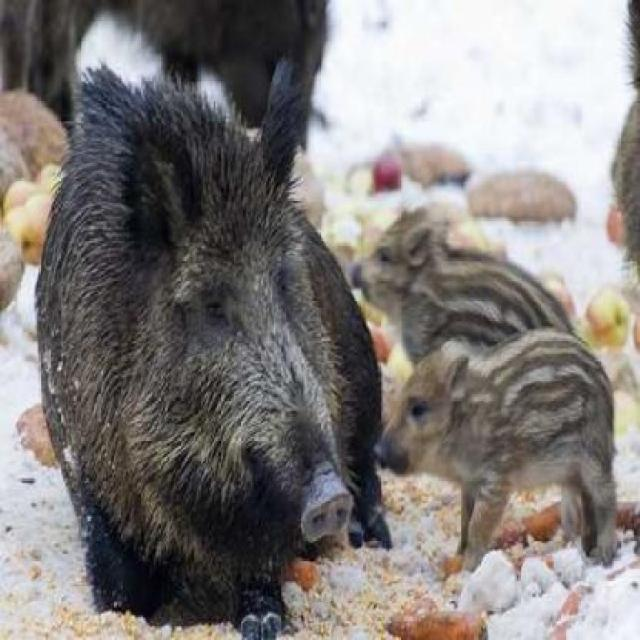pig: (12, 46, 392, 622), (363, 318, 639, 572), (371, 188, 560, 350)
